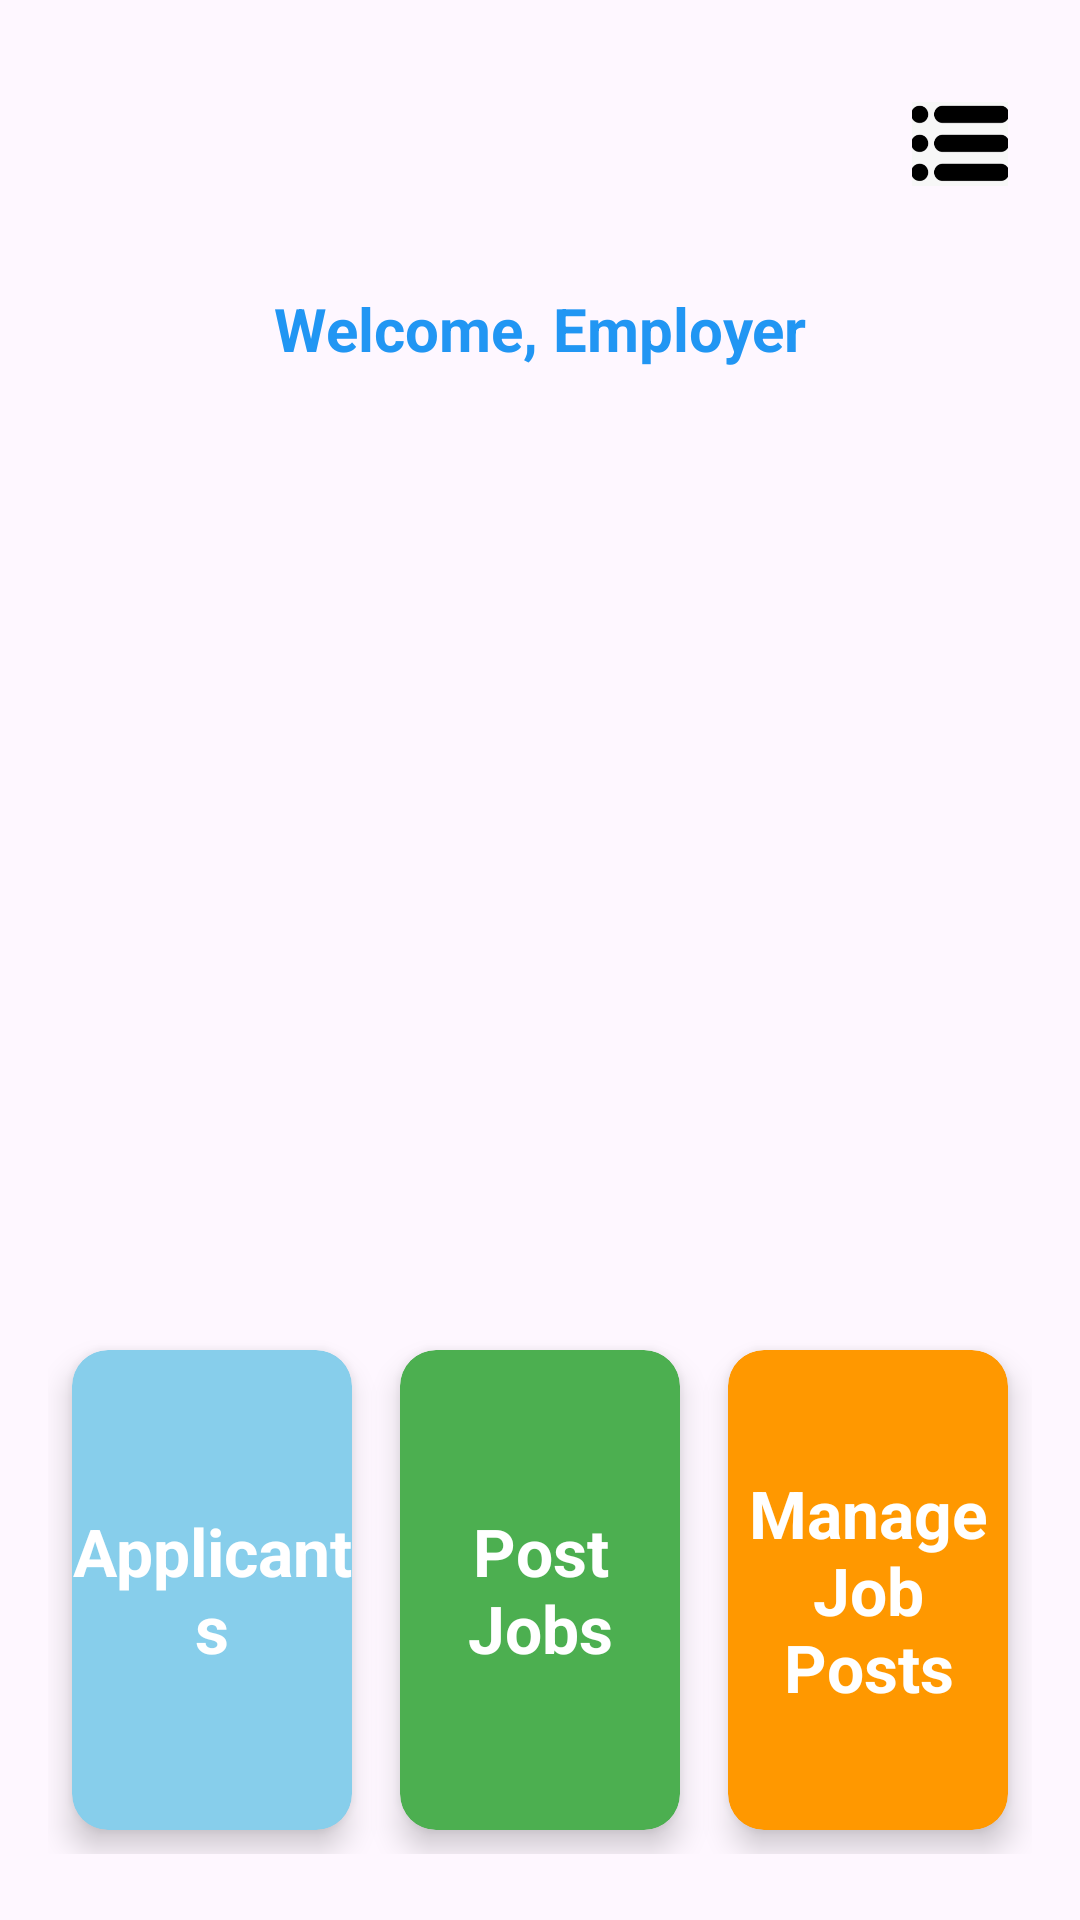

Icons on this 1080w x 1920h Android screen, each with the point to tap as (x,y):
Menu Icon: (960,143)
